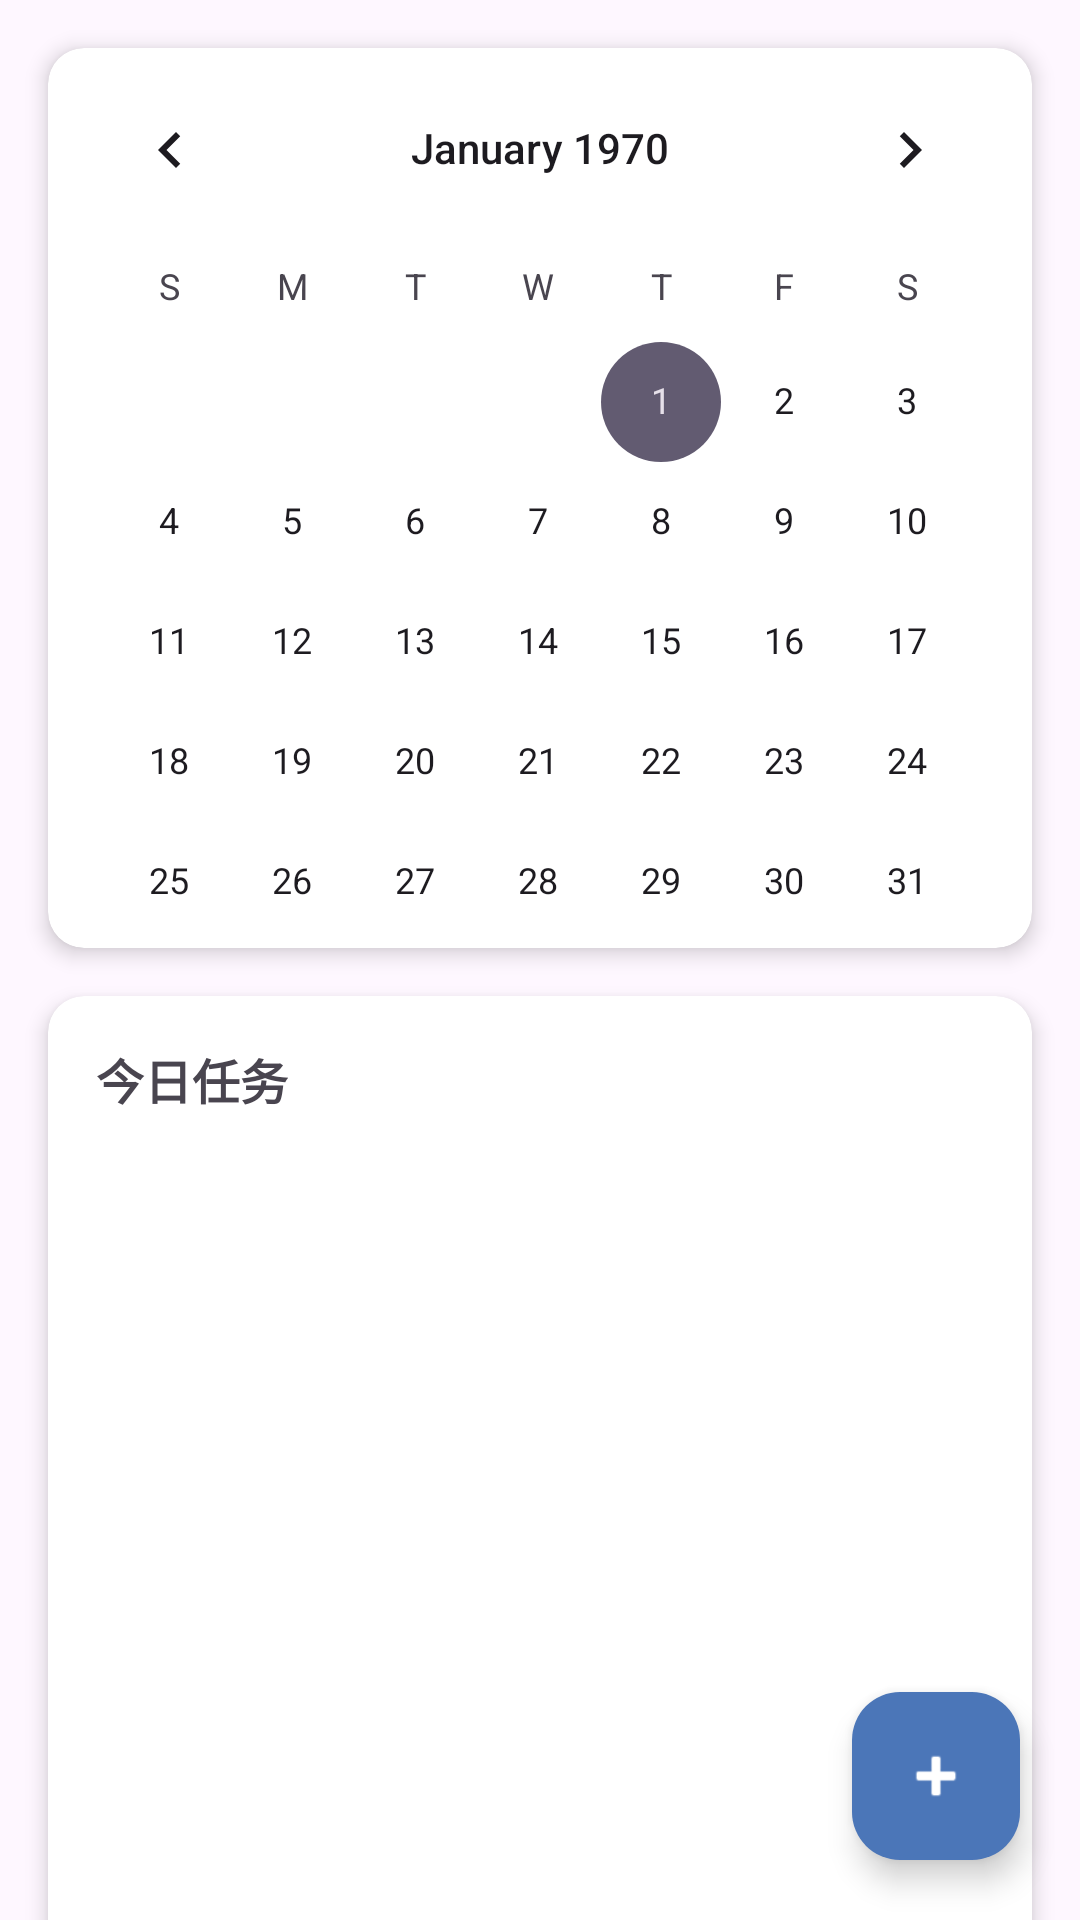

Icons on this 1080 × 1920 Android screen, each with its box as (x1, y1, x2, y2):
添加新任务: (852, 1692, 1020, 1860)
